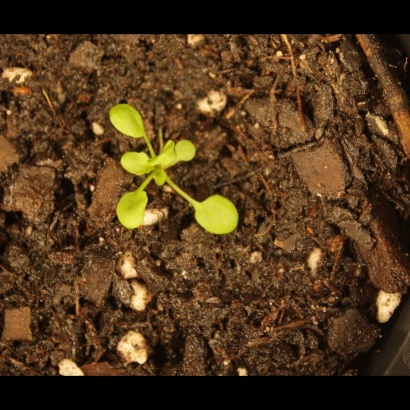leaf: (104, 91, 153, 146), (186, 193, 243, 238), (109, 186, 155, 232), (119, 151, 156, 178), (170, 136, 201, 168), (147, 144, 179, 167), (148, 169, 171, 192)
